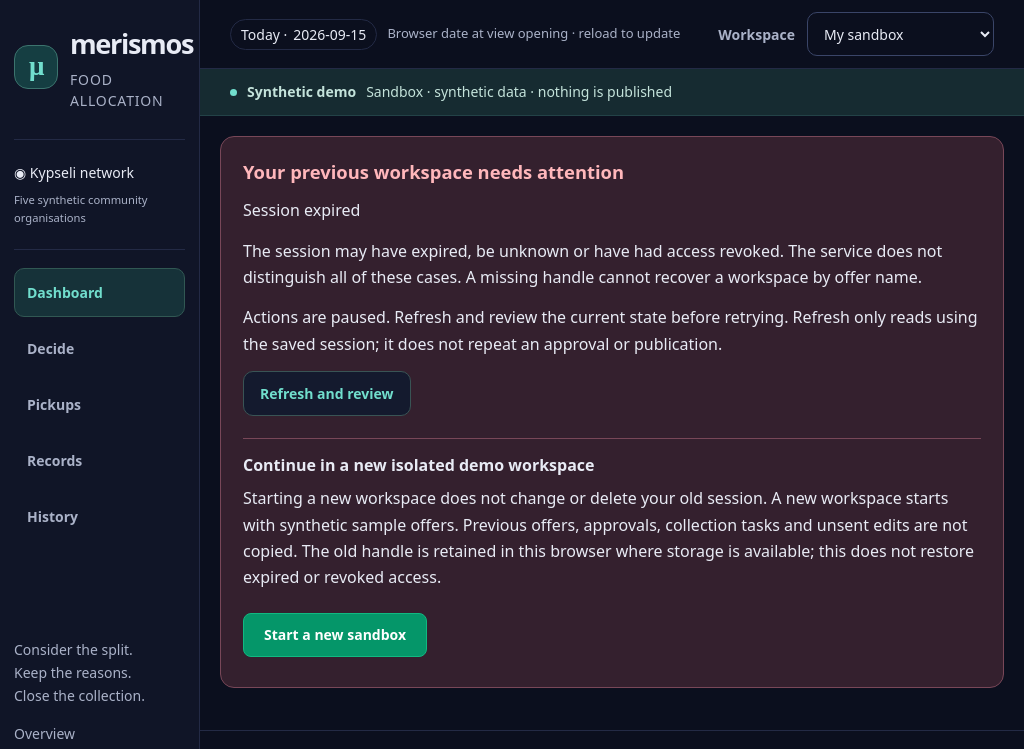
Scenario: reports a failed request and recovers an expired sandbox
Expected: the message shows "Session expired", [243,199,360,221]
Click the button "Start a new sandbox": (335, 635) [243,613,427,657]
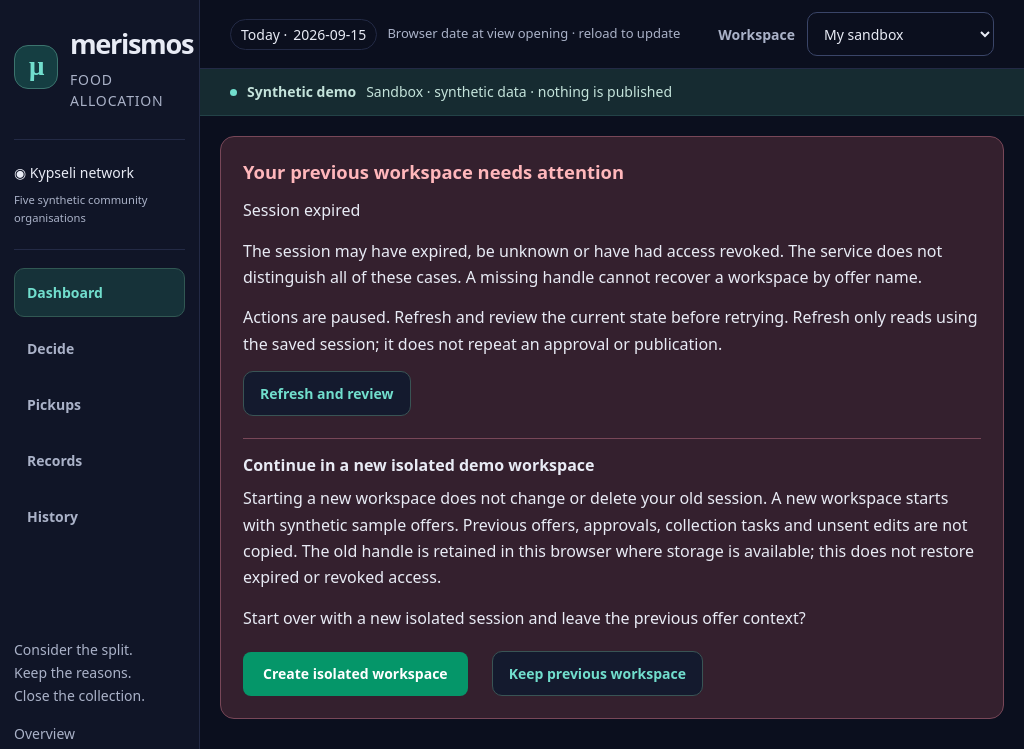
Click the button "Create isolated workspace": (355, 674) [243,652,468,696]
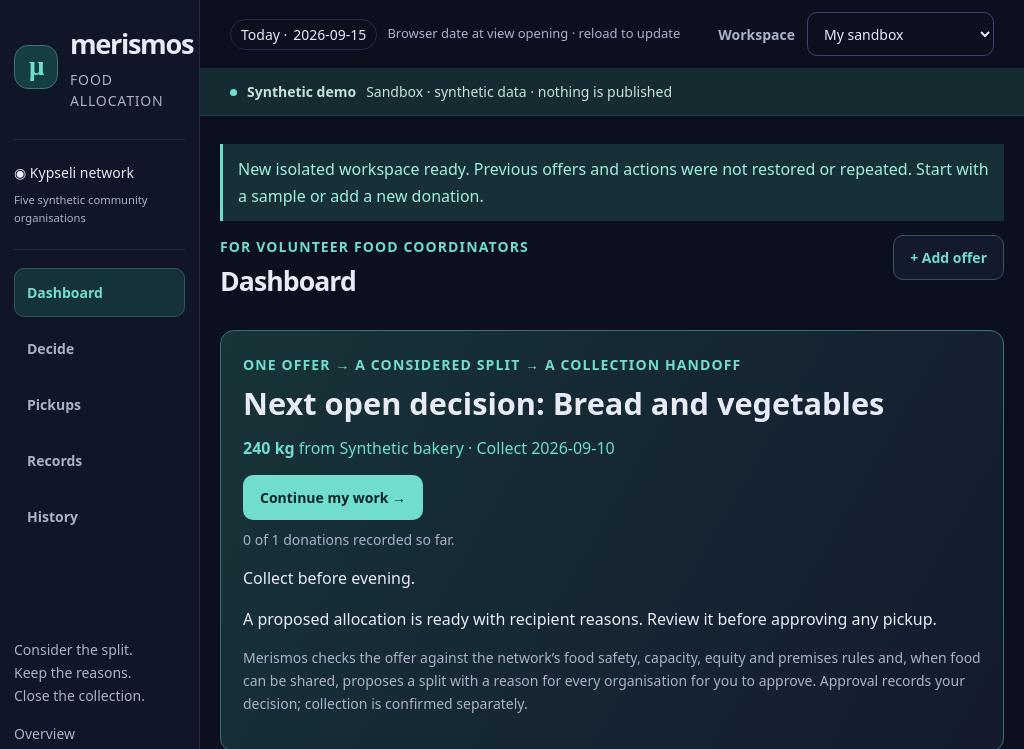
Result: the heading "Dashboard" is shown at [220,263,356,299]
